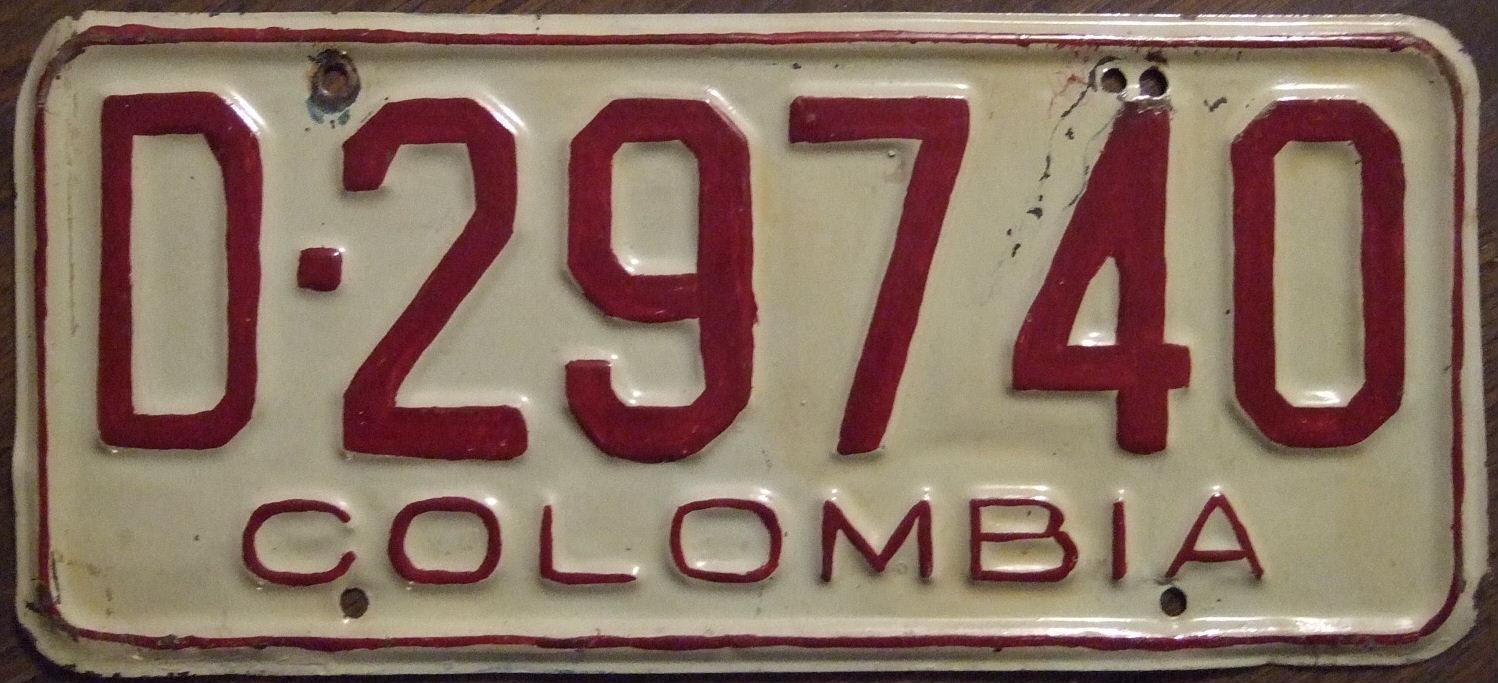placas: (8, 7, 1495, 674)
